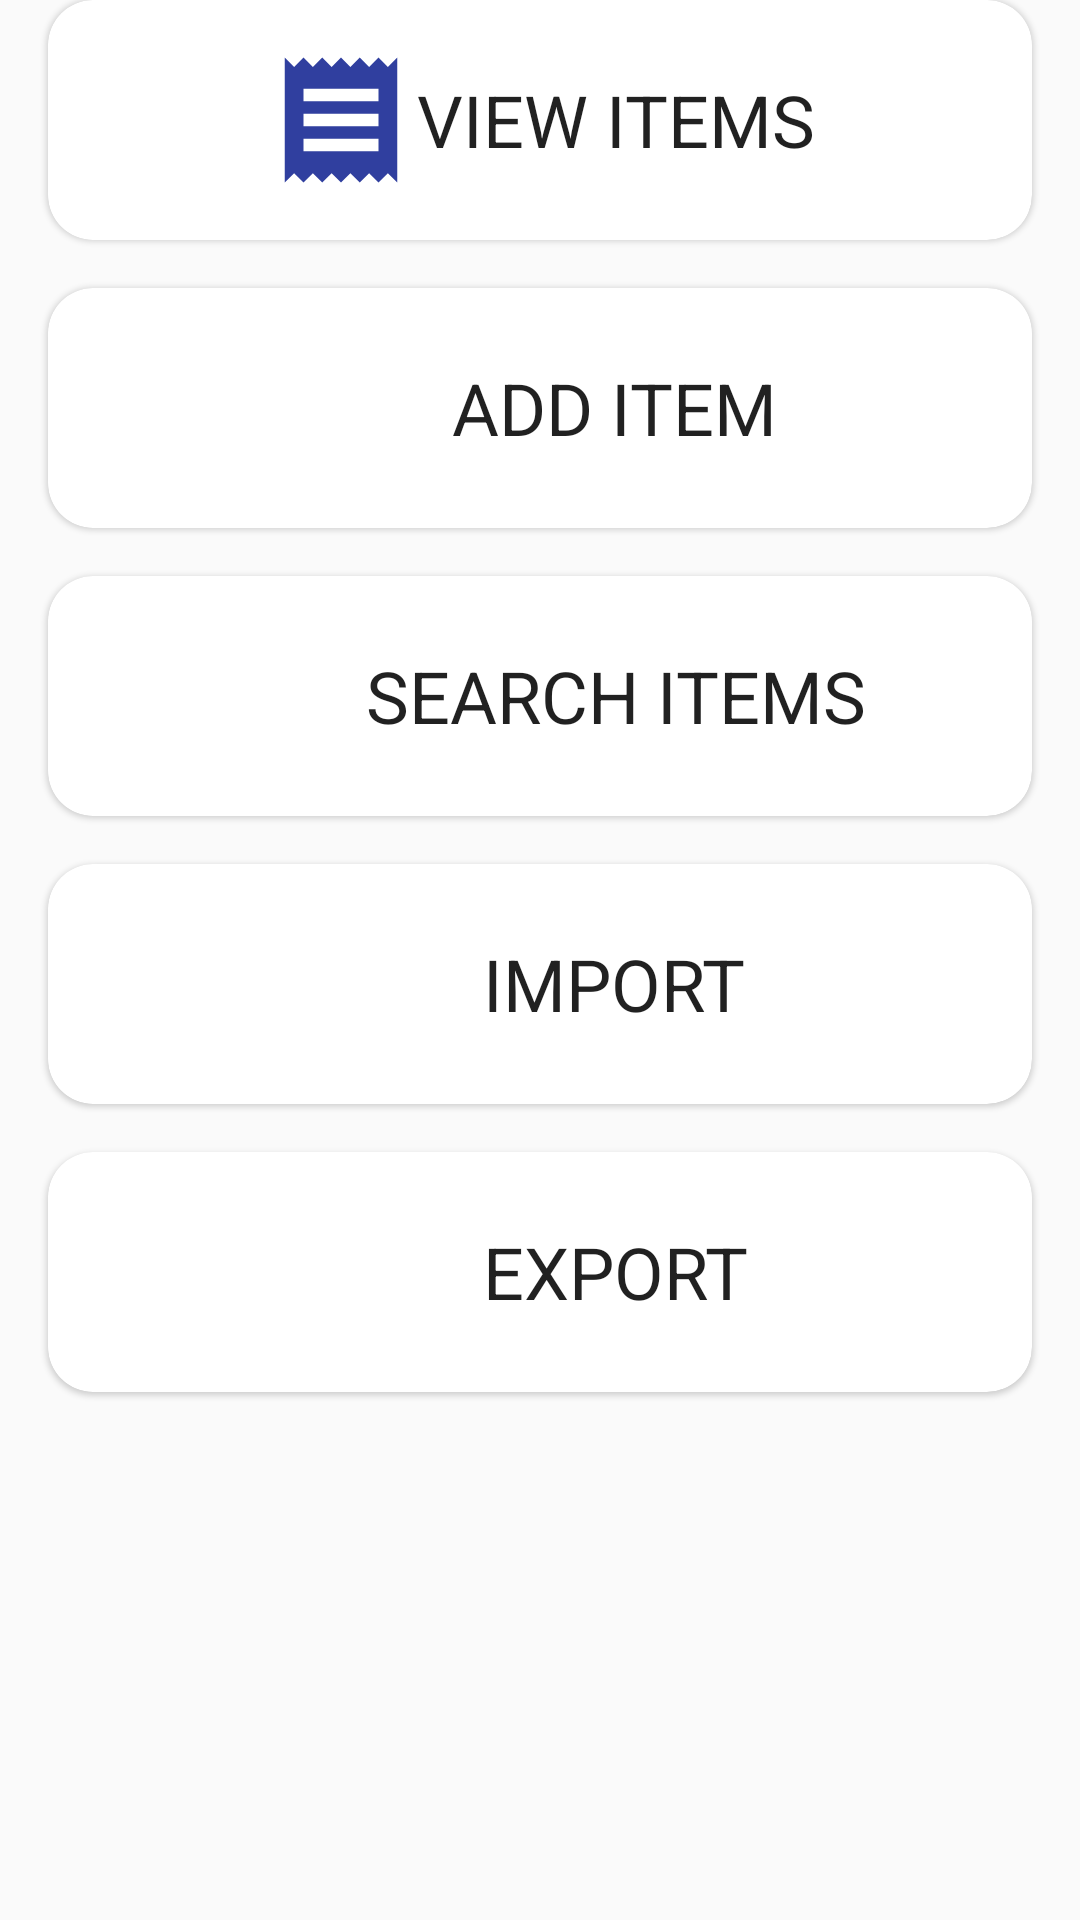

Where icons sit on this 1080 × 1920 app screen, as (x1, y1, x2, y2):
receipt: (284, 57, 398, 183)
